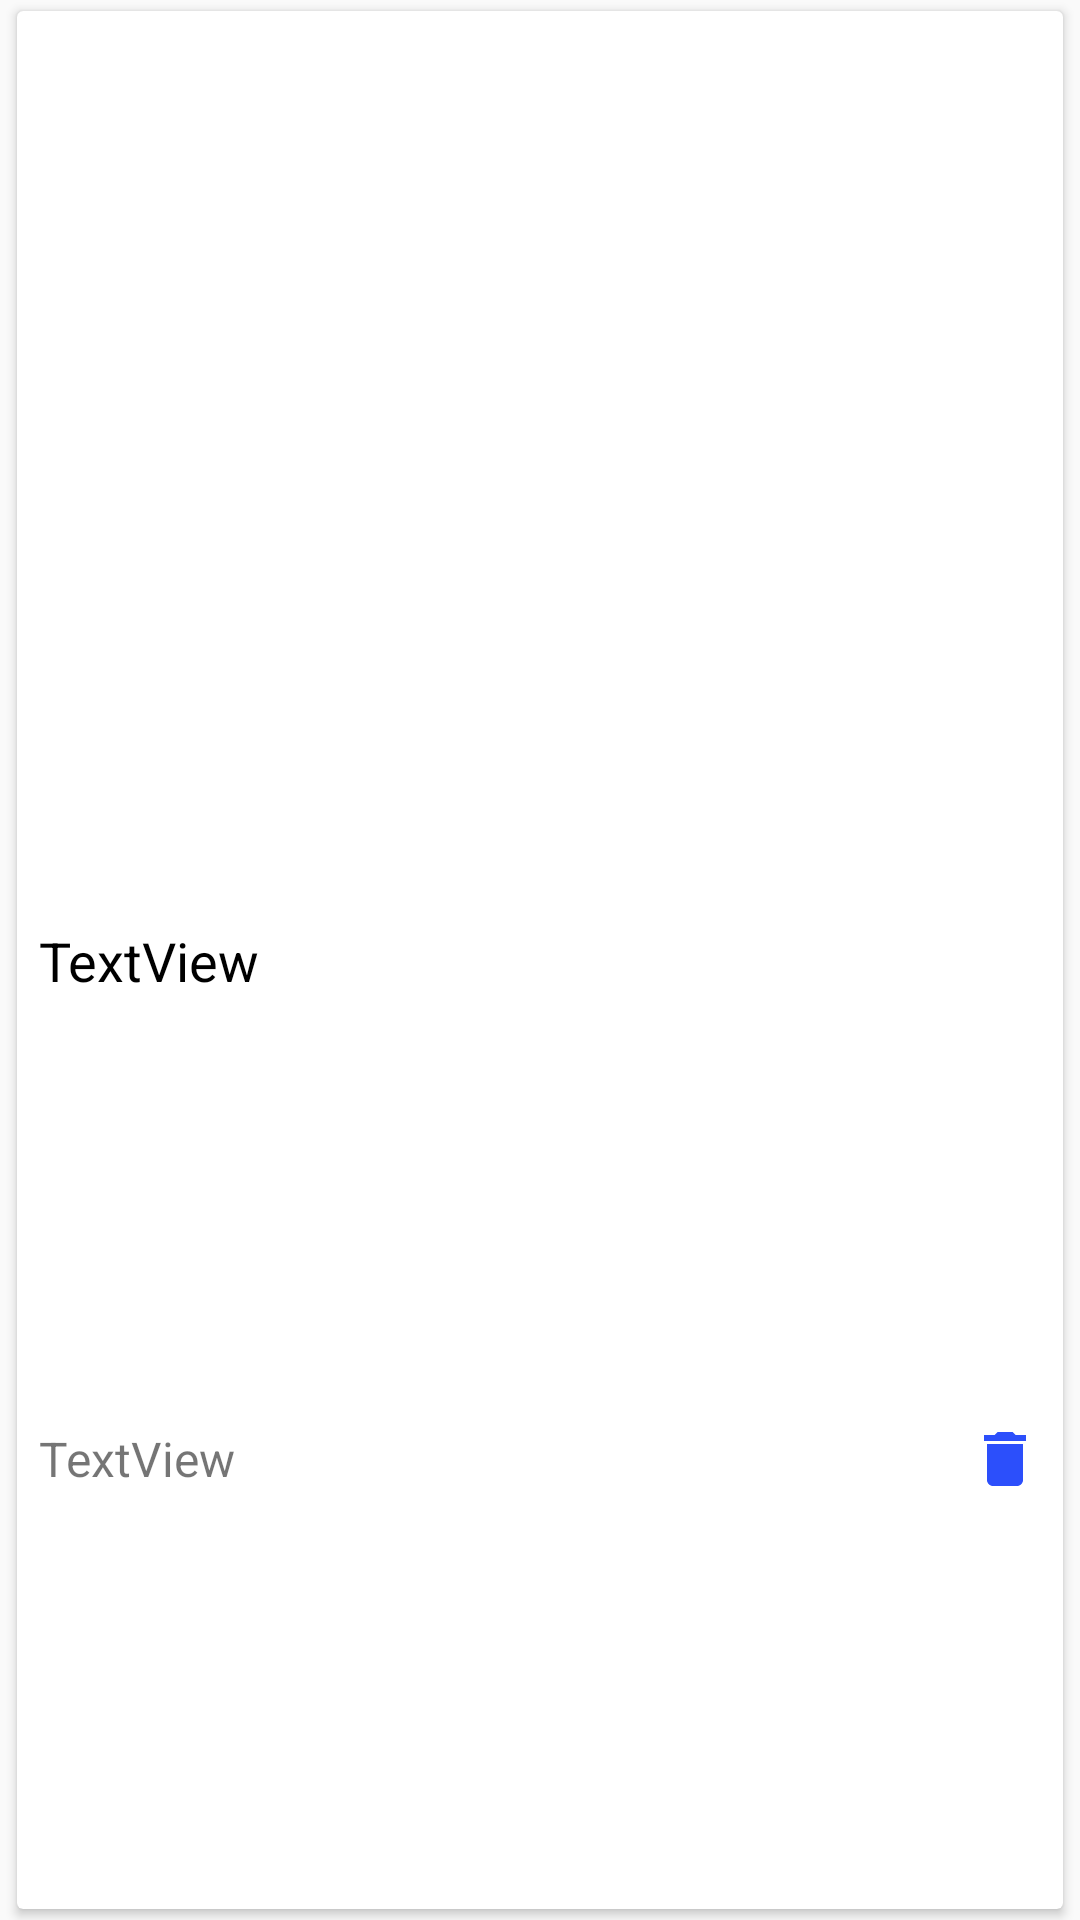

Locate icon controls on the screen. Image size 1080×1920, boxes as bbox=(x1, y1, x2, y2).
delete: bbox=(984, 1432, 1026, 1486)
